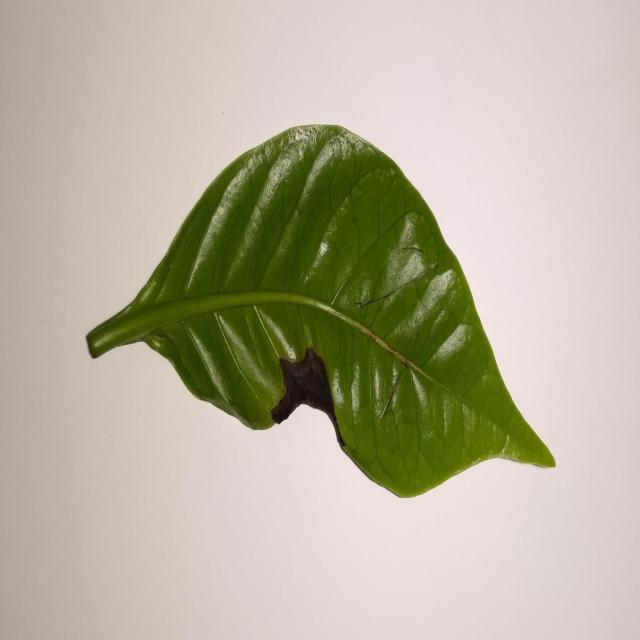Enfermedad-Antracnosis: (83, 125, 556, 501)
